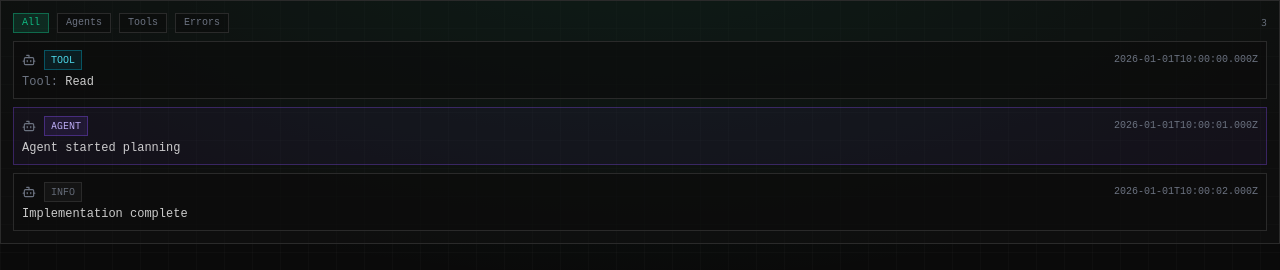
Scenario: AgentTimeline › filters entries by Agents
The image size is (1280, 270).
Click the button "Agents". click: click(84, 23)
box: x1=57 y1=13 x2=111 y2=33
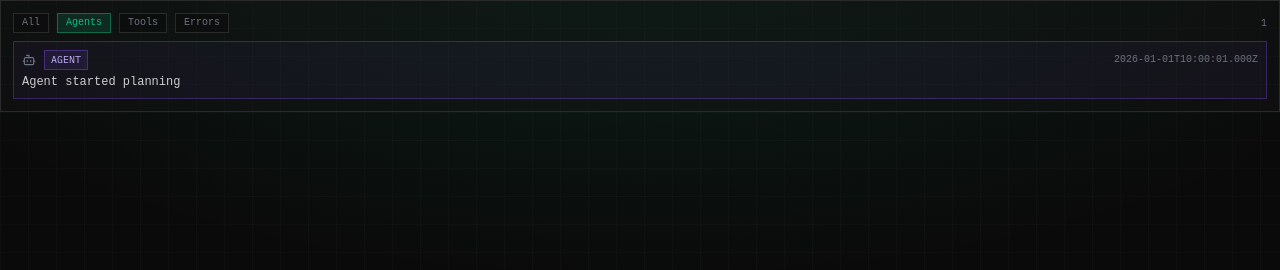
Expected: the text "Agent started planning" is shown, x1=22 y1=75 x2=180 y2=89
Expected: the text "Read" is gone
Expected: the text "Implementation complete" is gone
